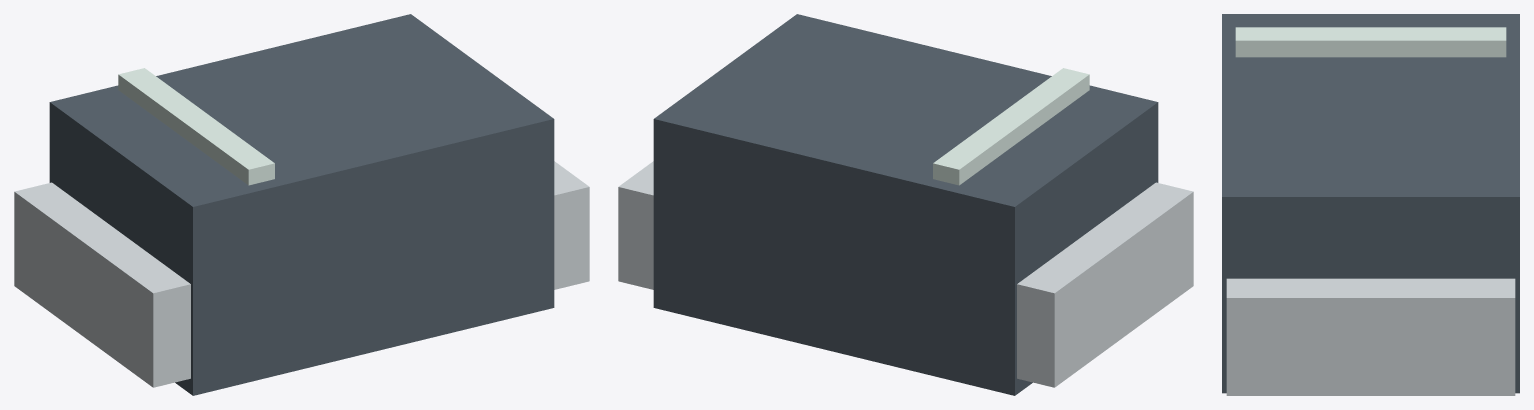
3 renders of one model, left to right at view 1: azimuth 30°, elevation 25°; view 2: azimuth 150°, elevation 25°; view 3: azimuth 270°, elevation 25°, orthographic. The views are drawn at different scales.
Parts seen in each view (by area): view 1: L122_black_chip__PSMAT__black_chip, L122_tin__PSMAT__tin, L122_silkscreen__PSMAT__silkscreen; view 2: L122_black_chip__PSMAT__black_chip, L122_tin__PSMAT__tin, L122_silkscreen__PSMAT__silkscreen; view 3: L122_black_chip__PSMAT__black_chip, L122_tin__PSMAT__tin, L122_silkscreen__PSMAT__silkscreen.
Part boxes in pixels (x1,y1,x2,y2): L122_black_chip__PSMAT__black_chip: (49, 14, 554, 395); L122_tin__PSMAT__tin: (14, 161, 589, 387); L122_silkscreen__PSMAT__silkscreen: (118, 68, 274, 185); L122_black_chip__PSMAT__black_chip: (653, 14, 1158, 395); L122_tin__PSMAT__tin: (618, 161, 1193, 387); L122_silkscreen__PSMAT__silkscreen: (933, 68, 1089, 185); L122_black_chip__PSMAT__black_chip: (1222, 14, 1519, 393); L122_tin__PSMAT__tin: (1226, 278, 1515, 395); L122_silkscreen__PSMAT__silkscreen: (1235, 27, 1506, 57).
Bounding box in the file's own units: 0.0058 × 0.00262 × 0.0033.
